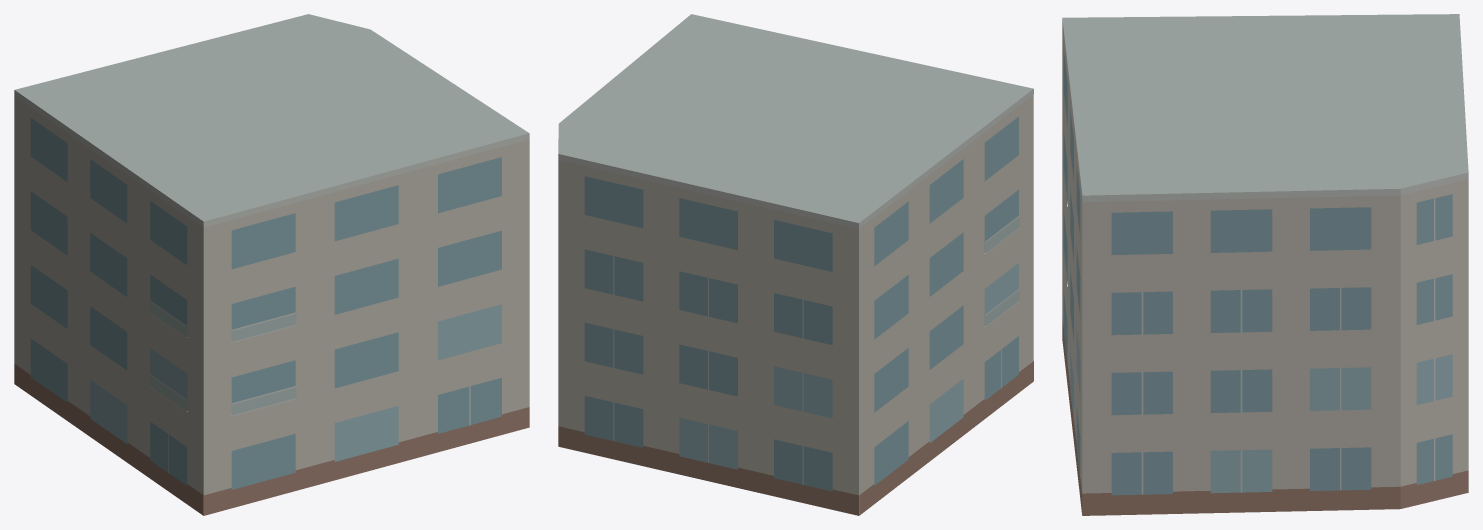
File: survey-upis-32464709.glb
3 renders of one model, left to right at view 1: azimuth 30°, elevation 25°; view 2: azimuth 150°, elevation 25°; view 3: azimuth 270°, elevation 25°, orthographic. The views are drawn at different scales.
Visible parts, largest first — view 1: survey-upis-32464709.tmp; view 2: survey-upis-32464709.tmp; view 3: survey-upis-32464709.tmp.
Boxes of the visible parts, <box> form: survey-upis-32464709.tmp: <box>14,14,529,515</box>; survey-upis-32464709.tmp: <box>558,14,1033,515</box>; survey-upis-32464709.tmp: <box>1062,14,1468,515</box>.
Bounding box in the file's own units: 14.36 × 11.8 × 13.58.
